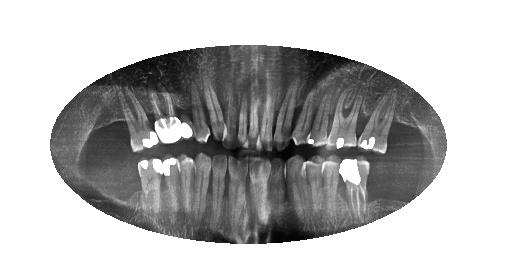i10healthy: (207, 152, 229, 228)
i11chipped: (194, 150, 214, 229)
i12healthy: (174, 150, 196, 223)
i13healthy: (160, 153, 182, 219)
i14healthy: (133, 157, 165, 218)
i15healthy: (120, 162, 145, 213)
i2loss: (365, 161, 391, 211)
i3healthy: (336, 152, 374, 216)
i4healthy: (320, 153, 344, 216)
i5healthy: (303, 150, 325, 215)
i6healthy: (286, 152, 306, 216)
i7decay: (268, 156, 289, 222)
i8healthy: (249, 153, 273, 228)
i9chipped: (224, 152, 254, 233)
u10decay: (217, 78, 240, 149)
u11chipped: (202, 74, 231, 143)
u12chipped: (188, 77, 213, 145)
u13loss: (173, 77, 194, 139)
u14healthy: (145, 78, 183, 146)
u15healthy: (114, 84, 160, 153)
u2healthy: (358, 80, 401, 159)
u3healthy: (326, 75, 363, 151)
u4healthy: (304, 77, 336, 147)
u5chipped: (289, 77, 320, 146)
u6healthy: (272, 76, 298, 151)
u7healthy: (256, 76, 279, 151)
u8healthy: (242, 73, 263, 150)
u9healthy: (234, 73, 251, 150)
